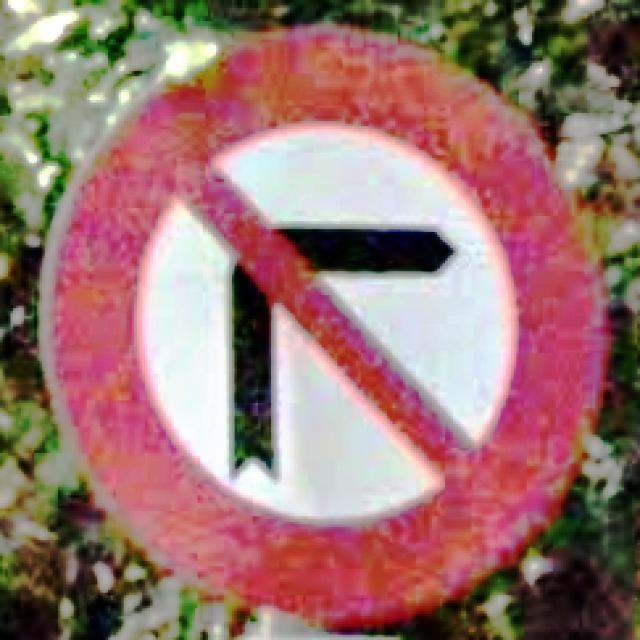noturnright: (45, 26, 603, 624)
